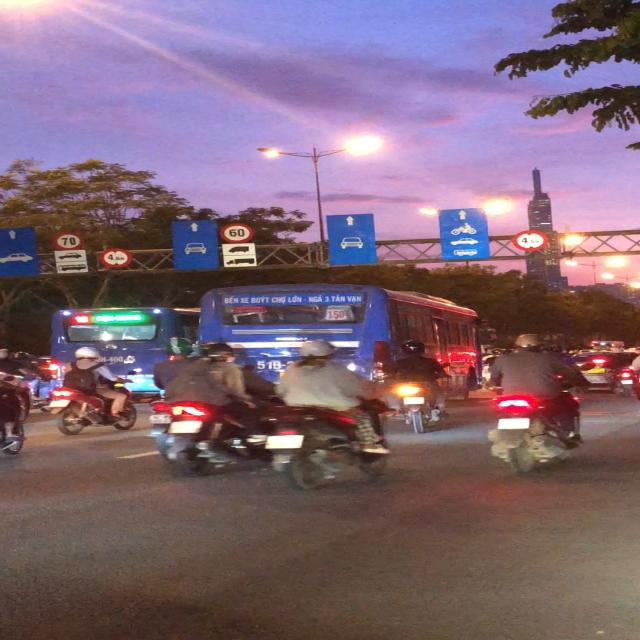Bien bao han che chieu cao: (506, 229, 551, 255), (94, 246, 144, 269)
Bien bao toc do toi da cho phep: (216, 221, 256, 245), (50, 230, 86, 250)
